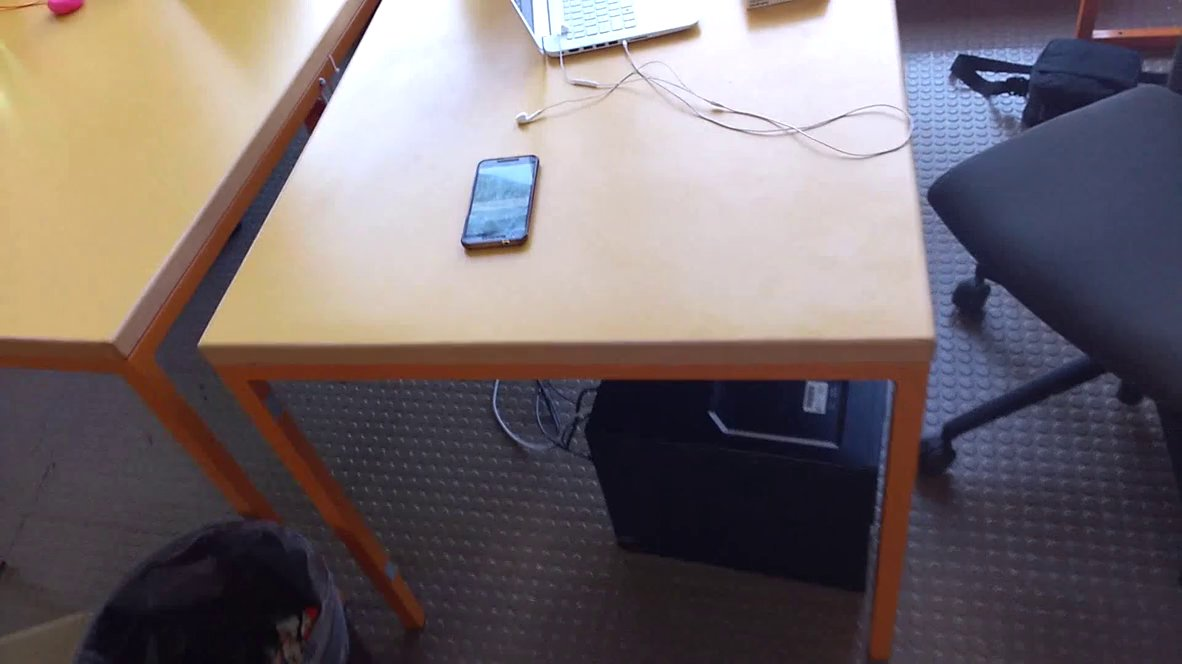phone: (456, 153, 547, 259)
